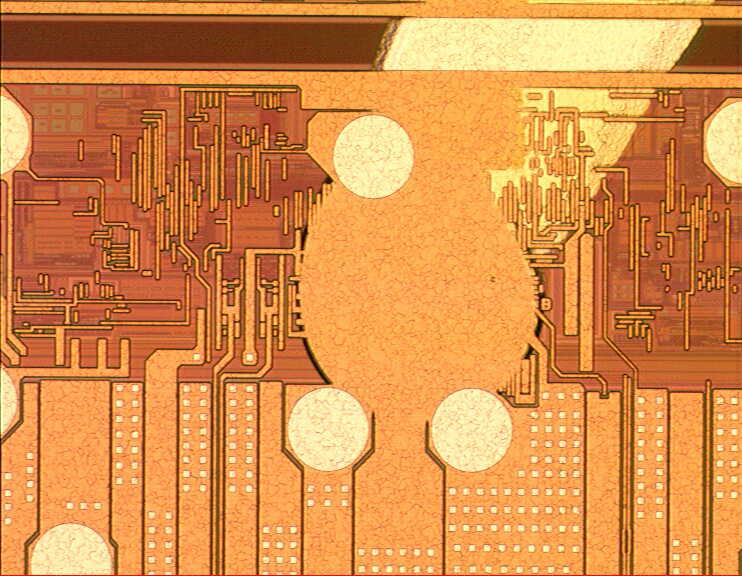BLOCK ETCH: (290, 1, 732, 441)
